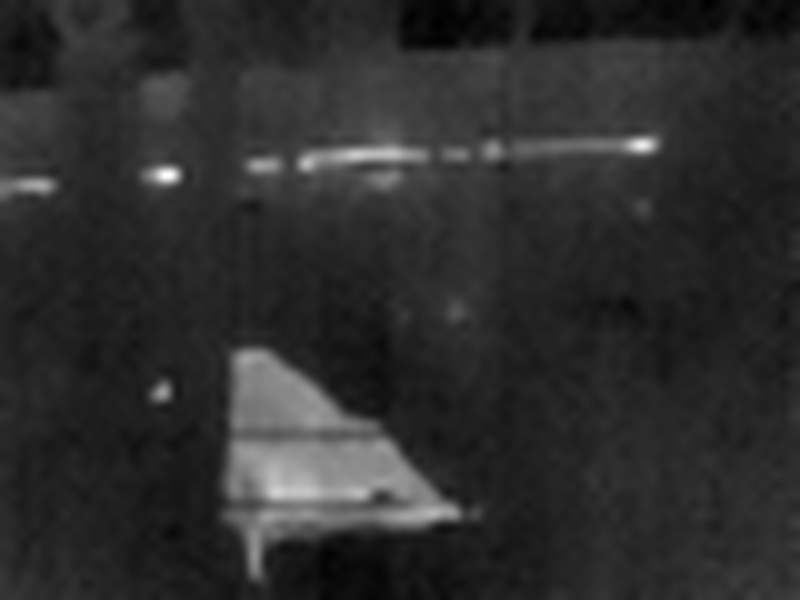elephant: (139, 349, 471, 562)
